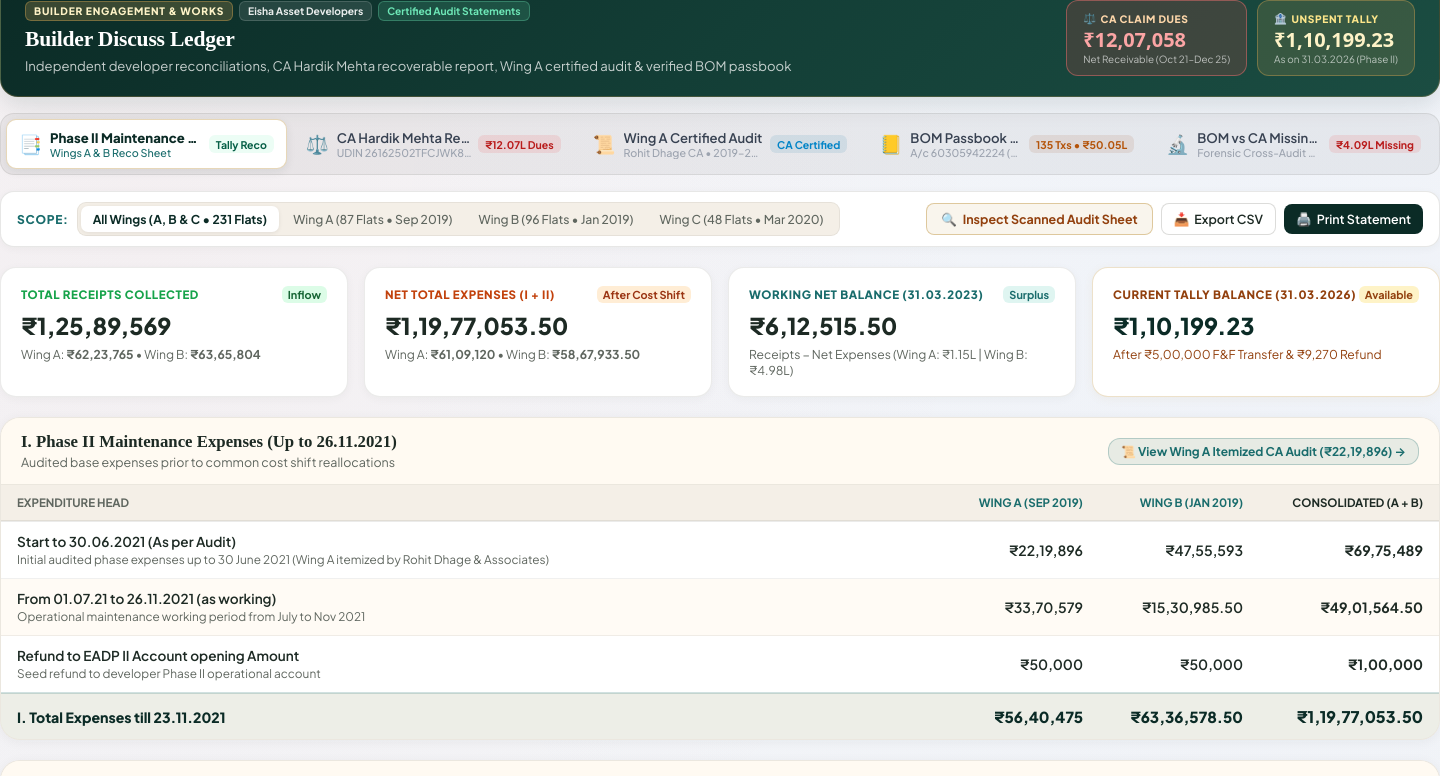
Test case: BuilderDiscuss Component - Design & Features › switches to Wing A Certified Audit tab and renders complete audited statement
Click the button "Wing A Certified Audit" at (720, 144), box [580,119,860,169]
(page scrolled)
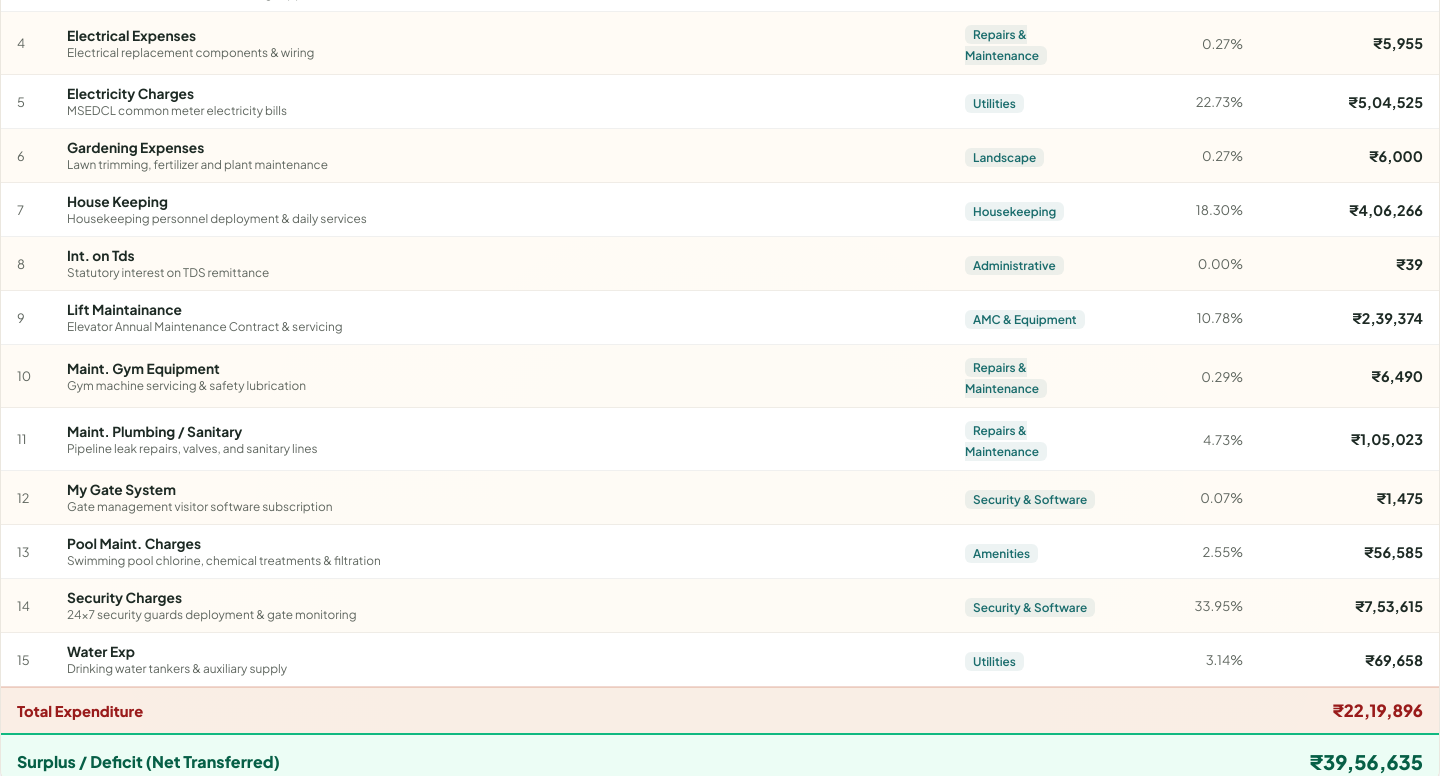
Now the text "₹7,53,615" is shown, box [1259,578,1439,632]
Now the text "Pool Maint. Charges" is shown, box [67,535,201,552]
